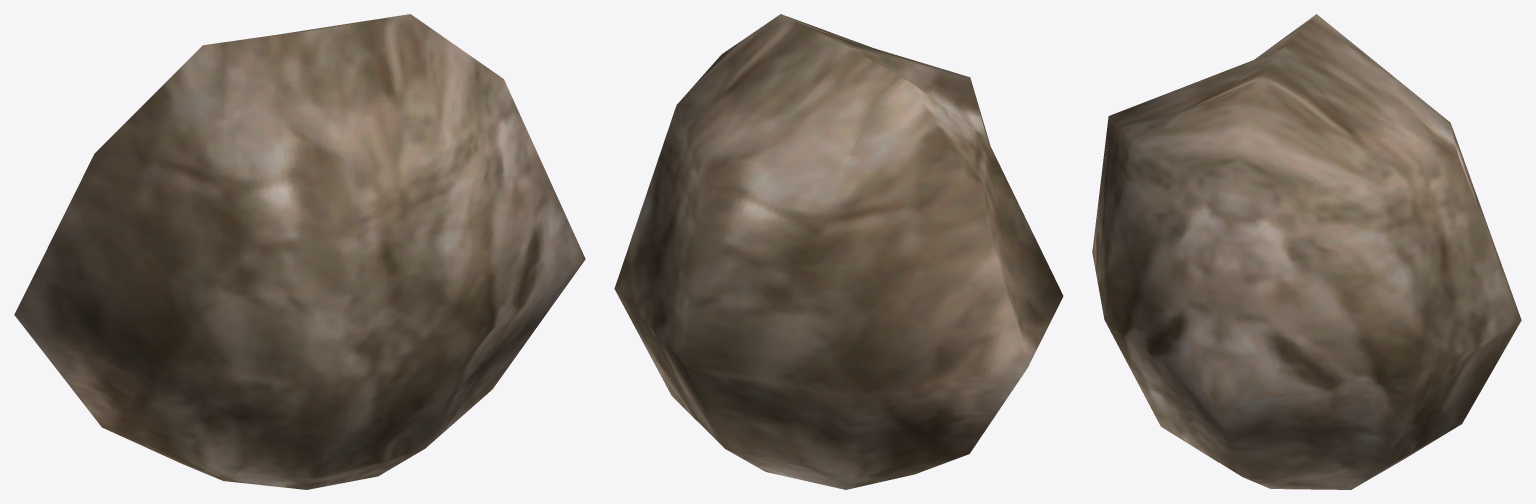
The model's file is OVERHILL_A_01_ROCK101.fbx.
3 views of the same model, side by side, from view 1: azimuth 30°, elevation 25°; view 2: azimuth 150°, elevation 25°; view 3: azimuth 270°, elevation 25° (orthographic). The views are drawn at different scales.
Visible parts, largest first — view 1: OVERHILL_A_01_ROCK101; view 2: OVERHILL_A_01_ROCK101; view 3: OVERHILL_A_01_ROCK101.
Part boxes in pixels (x1=…): OVERHILL_A_01_ROCK101: x1=14, y1=14, x2=585, y2=489; OVERHILL_A_01_ROCK101: x1=614, y1=14, x2=1063, y2=489; OVERHILL_A_01_ROCK101: x1=1092, y1=14, x2=1521, y2=489.
Size of the model in its own units: 9314 by 7935 by 7668.
Materials: 1 (1 with a texture image).
